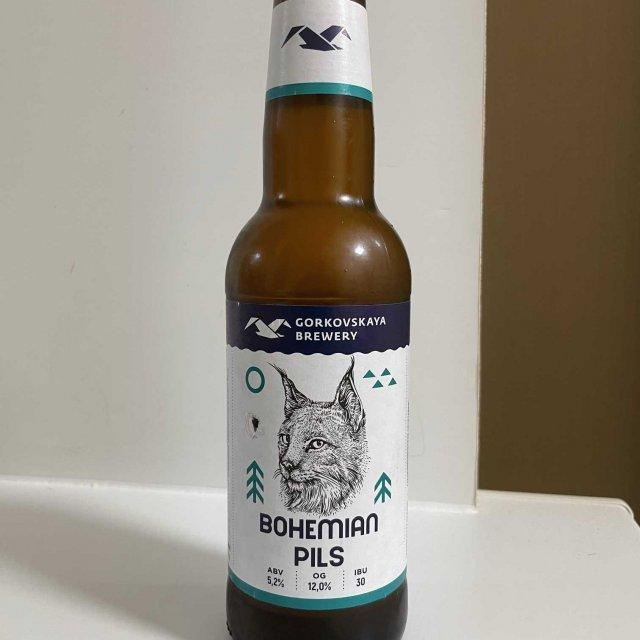Glass: (220, 3, 417, 640)
